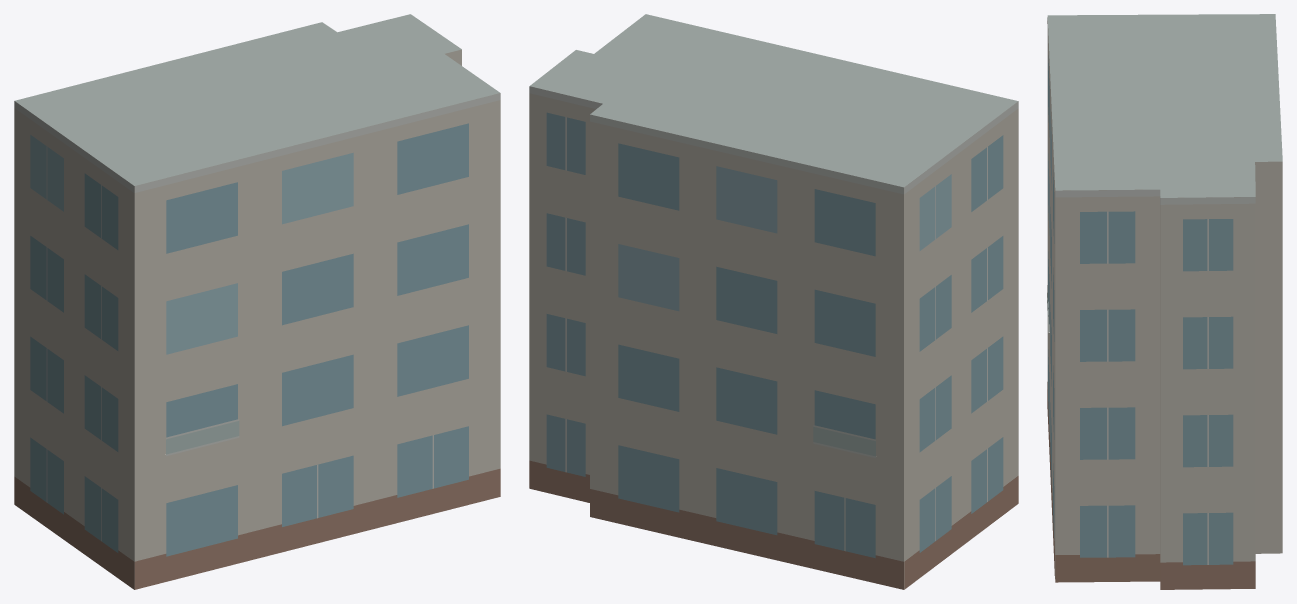
The model's file is survey-upis-32532739.glb.
3 renders of one model, left to right at view 1: azimuth 30°, elevation 25°; view 2: azimuth 150°, elevation 25°; view 3: azimuth 270°, elevation 25°, orthographic. The views are drawn at different scales.
Parts seen in each view (by area): view 1: survey-upis-32532739.tmp; view 2: survey-upis-32532739.tmp; view 3: survey-upis-32532739.tmp.
Part boxes in pixels (<box>): survey-upis-32532739.tmp: <box>14,14,500,589</box>; survey-upis-32532739.tmp: <box>529,14,1018,589</box>; survey-upis-32532739.tmp: <box>1047,14,1282,589</box>.
Size of the model in its own units: 14 by 13.9 by 7.59.
